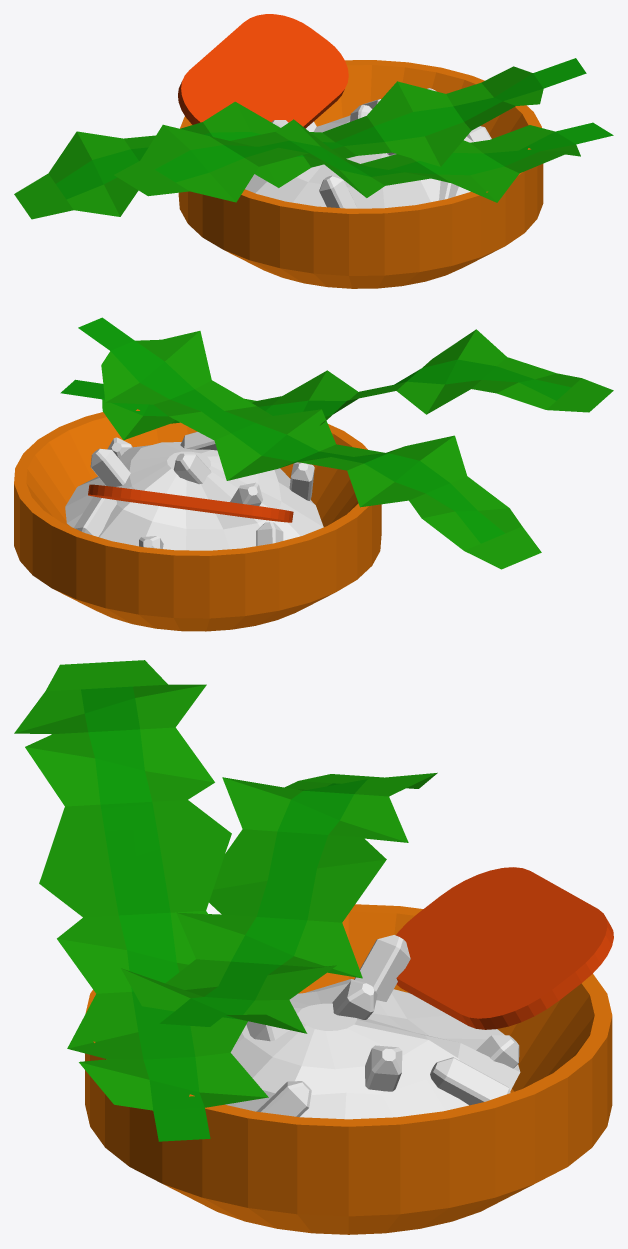
The model's file is SpamMusubiUnfolded.fbx.
3 views of the same model, one above another, from view 1: azimuth 30°, elevation 25°; view 2: azimuth 150°, elevation 25°; view 3: azimuth 270°, elevation 25° (orthographic). The views are drawn at different scales.
Visible parts, largest first — view 1: Bowl, Seaweed, Seaweed (1), SpamCookedPortion, RiceMound, RiceBlocks; view 2: Bowl, Seaweed, Seaweed (1), RiceMound, RiceBlocks, SpamCookedPortion; view 3: Seaweed (1), Bowl, Seaweed, SpamCookedPortion, RiceMound, RiceBlocks.
Boxes of the visible parts, left/top/right/bottom form: Bowl: left=178, top=60, right=543, bottom=288; Seaweed: left=14, top=58, right=586, bottom=219; Seaweed (1): left=114, top=119, right=613, bottom=202; SpamCookedPortion: left=178, top=14, right=348, bottom=128; RiceMound: left=245, top=115, right=473, bottom=208; RiceBlocks: left=271, top=88, right=491, bottom=208; Bowl: left=14, top=409, right=381, bottom=631; Seaweed: left=78, top=317, right=541, bottom=569; Seaweed (1): left=60, top=329, right=613, bottom=440; RiceMound: left=65, top=442, right=323, bottom=550; RiceBlocks: left=74, top=431, right=314, bottom=548; SpamCookedPortion: left=88, top=484, right=293, bottom=522; Seaweed (1): left=14, top=660, right=268, bottom=1141; Bowl: left=85, top=904, right=612, bottom=1234; Seaweed: left=121, top=772, right=437, bottom=1033; SpamCookedPortion: left=396, top=867, right=613, bottom=1029; RiceMound: left=225, top=979, right=520, bottom=1119; RiceBlocks: left=246, top=935, right=519, bottom=1116.
Bounding box in the file's own units: 56.99 × 21.46 × 39.26.
